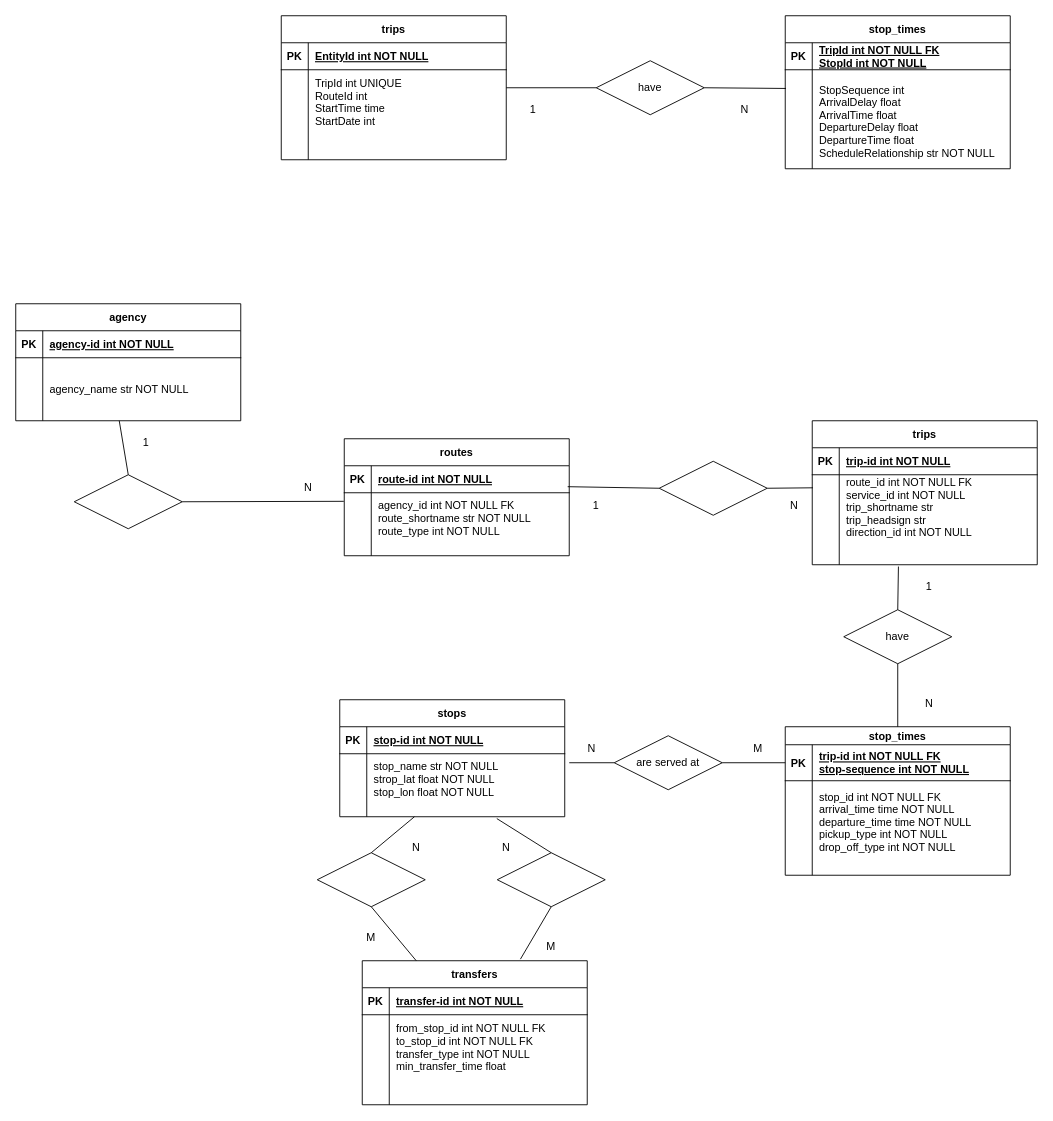
The diagram is 1053 pixels wide and 1121 high, and some of its shapes have lost their labels. The shapes that lost their labels are listed below. From the top down, each one's centre as x and y in pixels, then its label:
the point at 127,501: operates
the point at 712,487: refer to
the point at 370,879: transfer from
the point at 550,879: transfer to
